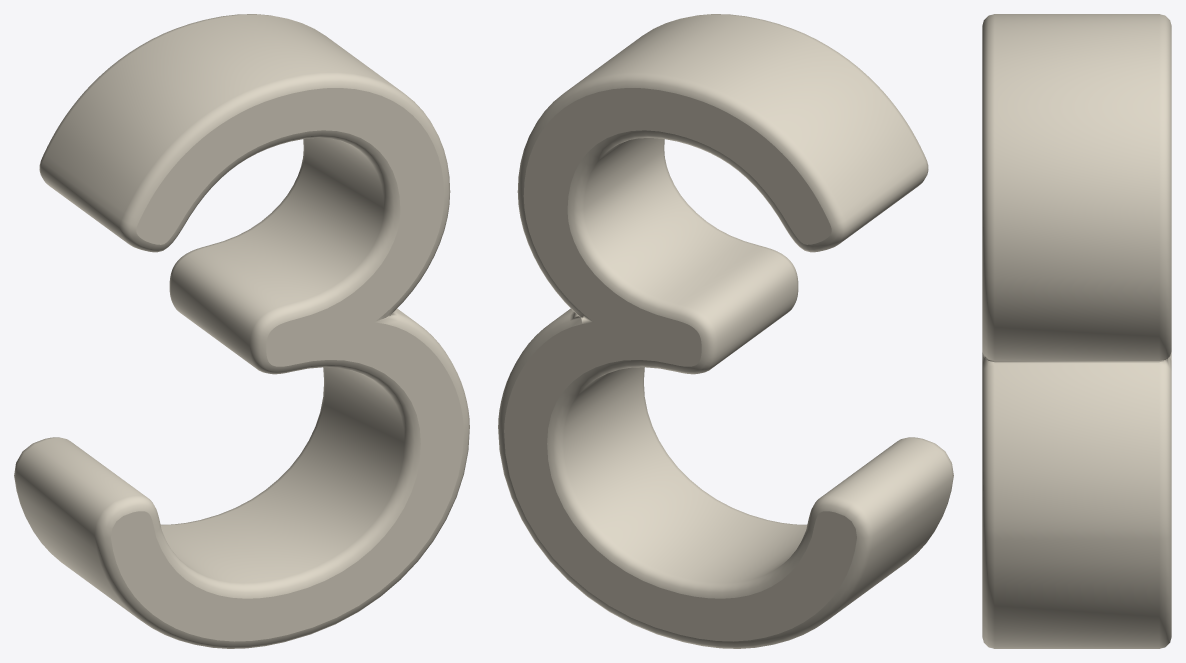
File: number_3.glb
The picture shows the model from 3 angles, left to right: view 1: azimuth 30°, elevation 25°; view 2: azimuth 150°, elevation 25°; view 3: azimuth 270°, elevation 25°; orthographic projection. The views are drawn at different scales.
Parts seen in each view (by area): view 1: color_body; view 2: color_body; view 3: color_body.
Boxes of the visible parts, x1=… form: color_body: x1=14, y1=14, x2=469, y2=648; color_body: x1=498, y1=14, x2=953, y2=648; color_body: x1=982, y1=14, x2=1171, y2=648.
Size of the model in its own units: 0.5758 by 0.8272 by 0.242.
